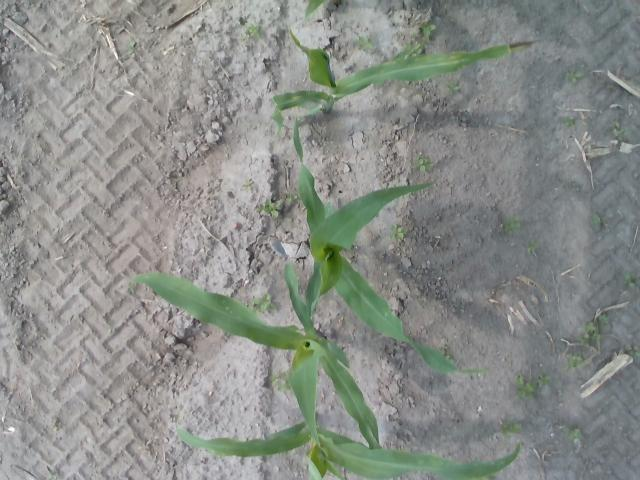Maize: (292, 101, 492, 373), (132, 236, 381, 448), (272, 26, 542, 138), (174, 413, 522, 479), (302, 1, 324, 23)
Weeds: (516, 377, 533, 398), (253, 294, 276, 309), (258, 200, 277, 217), (390, 224, 406, 242), (412, 156, 431, 170), (419, 22, 437, 36), (564, 69, 582, 83), (502, 422, 522, 434), (355, 36, 372, 50), (624, 272, 638, 287), (444, 79, 458, 93), (272, 371, 284, 386), (538, 370, 549, 386), (564, 428, 580, 438), (592, 214, 602, 230), (626, 345, 640, 356), (568, 351, 582, 362), (242, 180, 256, 191), (502, 222, 514, 234), (284, 190, 296, 202), (249, 24, 261, 36), (50, 418, 60, 432), (510, 217, 522, 228), (562, 114, 574, 125), (613, 123, 622, 137), (527, 240, 538, 251), (582, 334, 593, 345), (565, 361, 576, 372), (127, 40, 135, 54), (598, 312, 608, 322), (586, 322, 596, 332), (238, 32, 248, 40), (174, 176, 182, 182), (594, 332, 600, 340)
